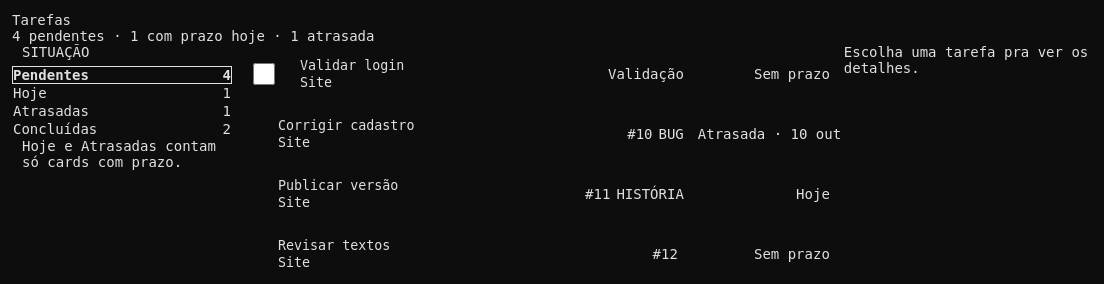
Scenario: TasksScreen › checkbox label names the task
Check: the checkbox named "Concluir Validar login" is shown, box [253,63,275,85]
Click the button "Concluídas 2": (122, 129) [12,120,232,138]
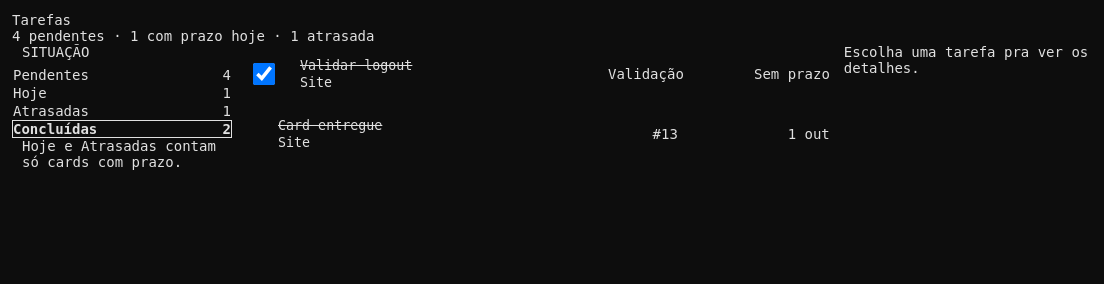
Check: the number of checkboxes is 1, box [253,63,275,85]
Check: the checkbox named "Reabrir Validar logout" is checked, box [253,63,275,85]
